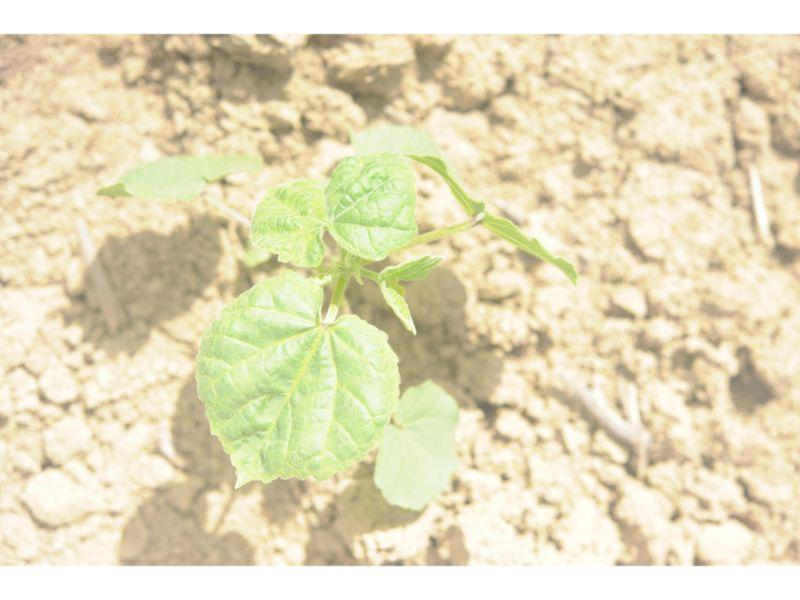velvet: (98, 123, 579, 512)
